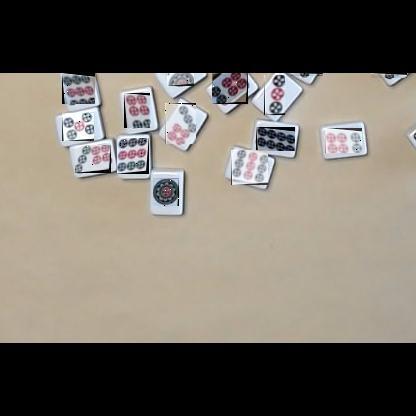1p: (153, 178, 179, 206), (167, 73, 194, 86)
3p: (264, 75, 285, 115)
5p: (62, 113, 94, 141)
6p: (212, 73, 248, 104), (325, 128, 362, 153), (124, 93, 150, 128)
7p: (165, 103, 196, 144), (75, 145, 111, 173)
8p: (256, 127, 295, 151), (291, 73, 323, 76)
9p: (231, 150, 268, 185), (117, 138, 149, 174), (62, 73, 95, 104), (371, 73, 407, 78)
